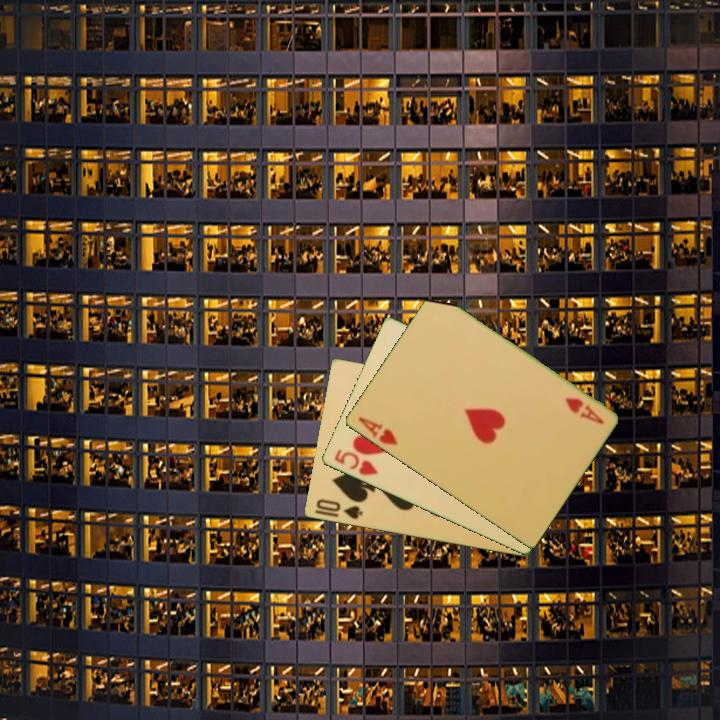10s: (313, 496, 365, 522)
5h: (330, 445, 381, 479)
Ah: (354, 413, 400, 448), (561, 394, 606, 427)
